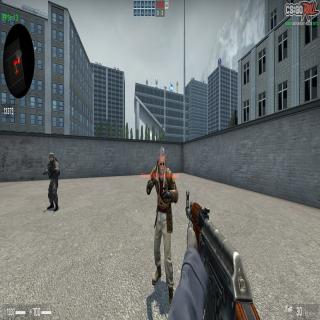CT-Body: (43, 152, 60, 211)
CT-Head: (49, 152, 54, 164)
T-Body: (146, 146, 178, 312)
T-Head: (158, 147, 166, 176)
